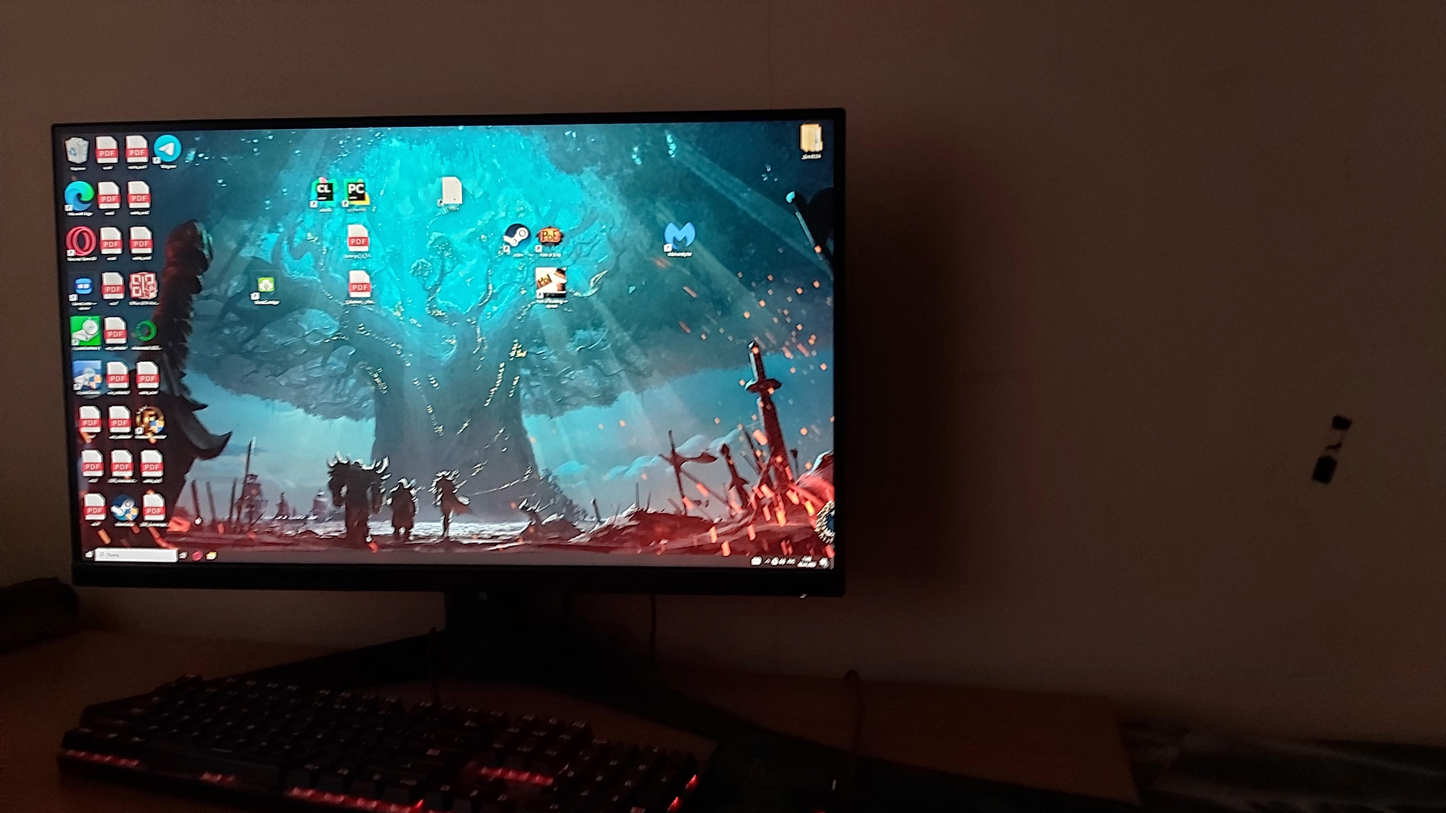monitor: (38, 99, 854, 597)
